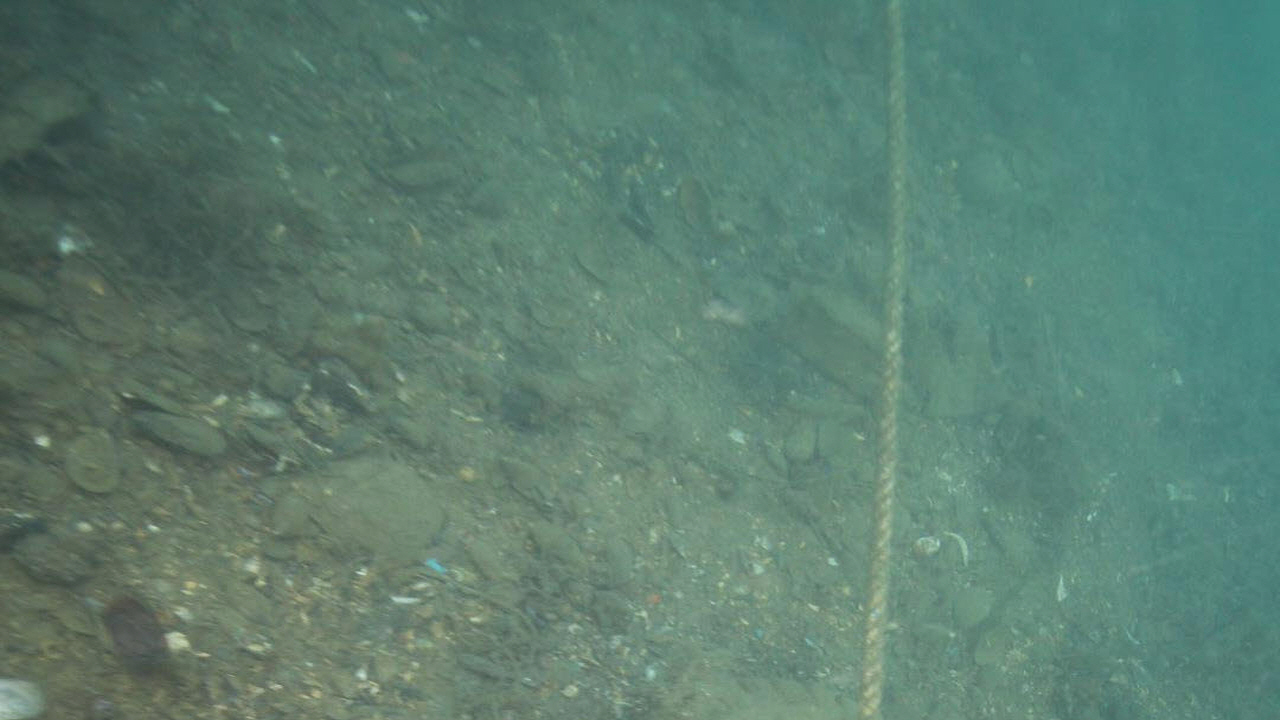rope: (848, 0, 916, 720)
